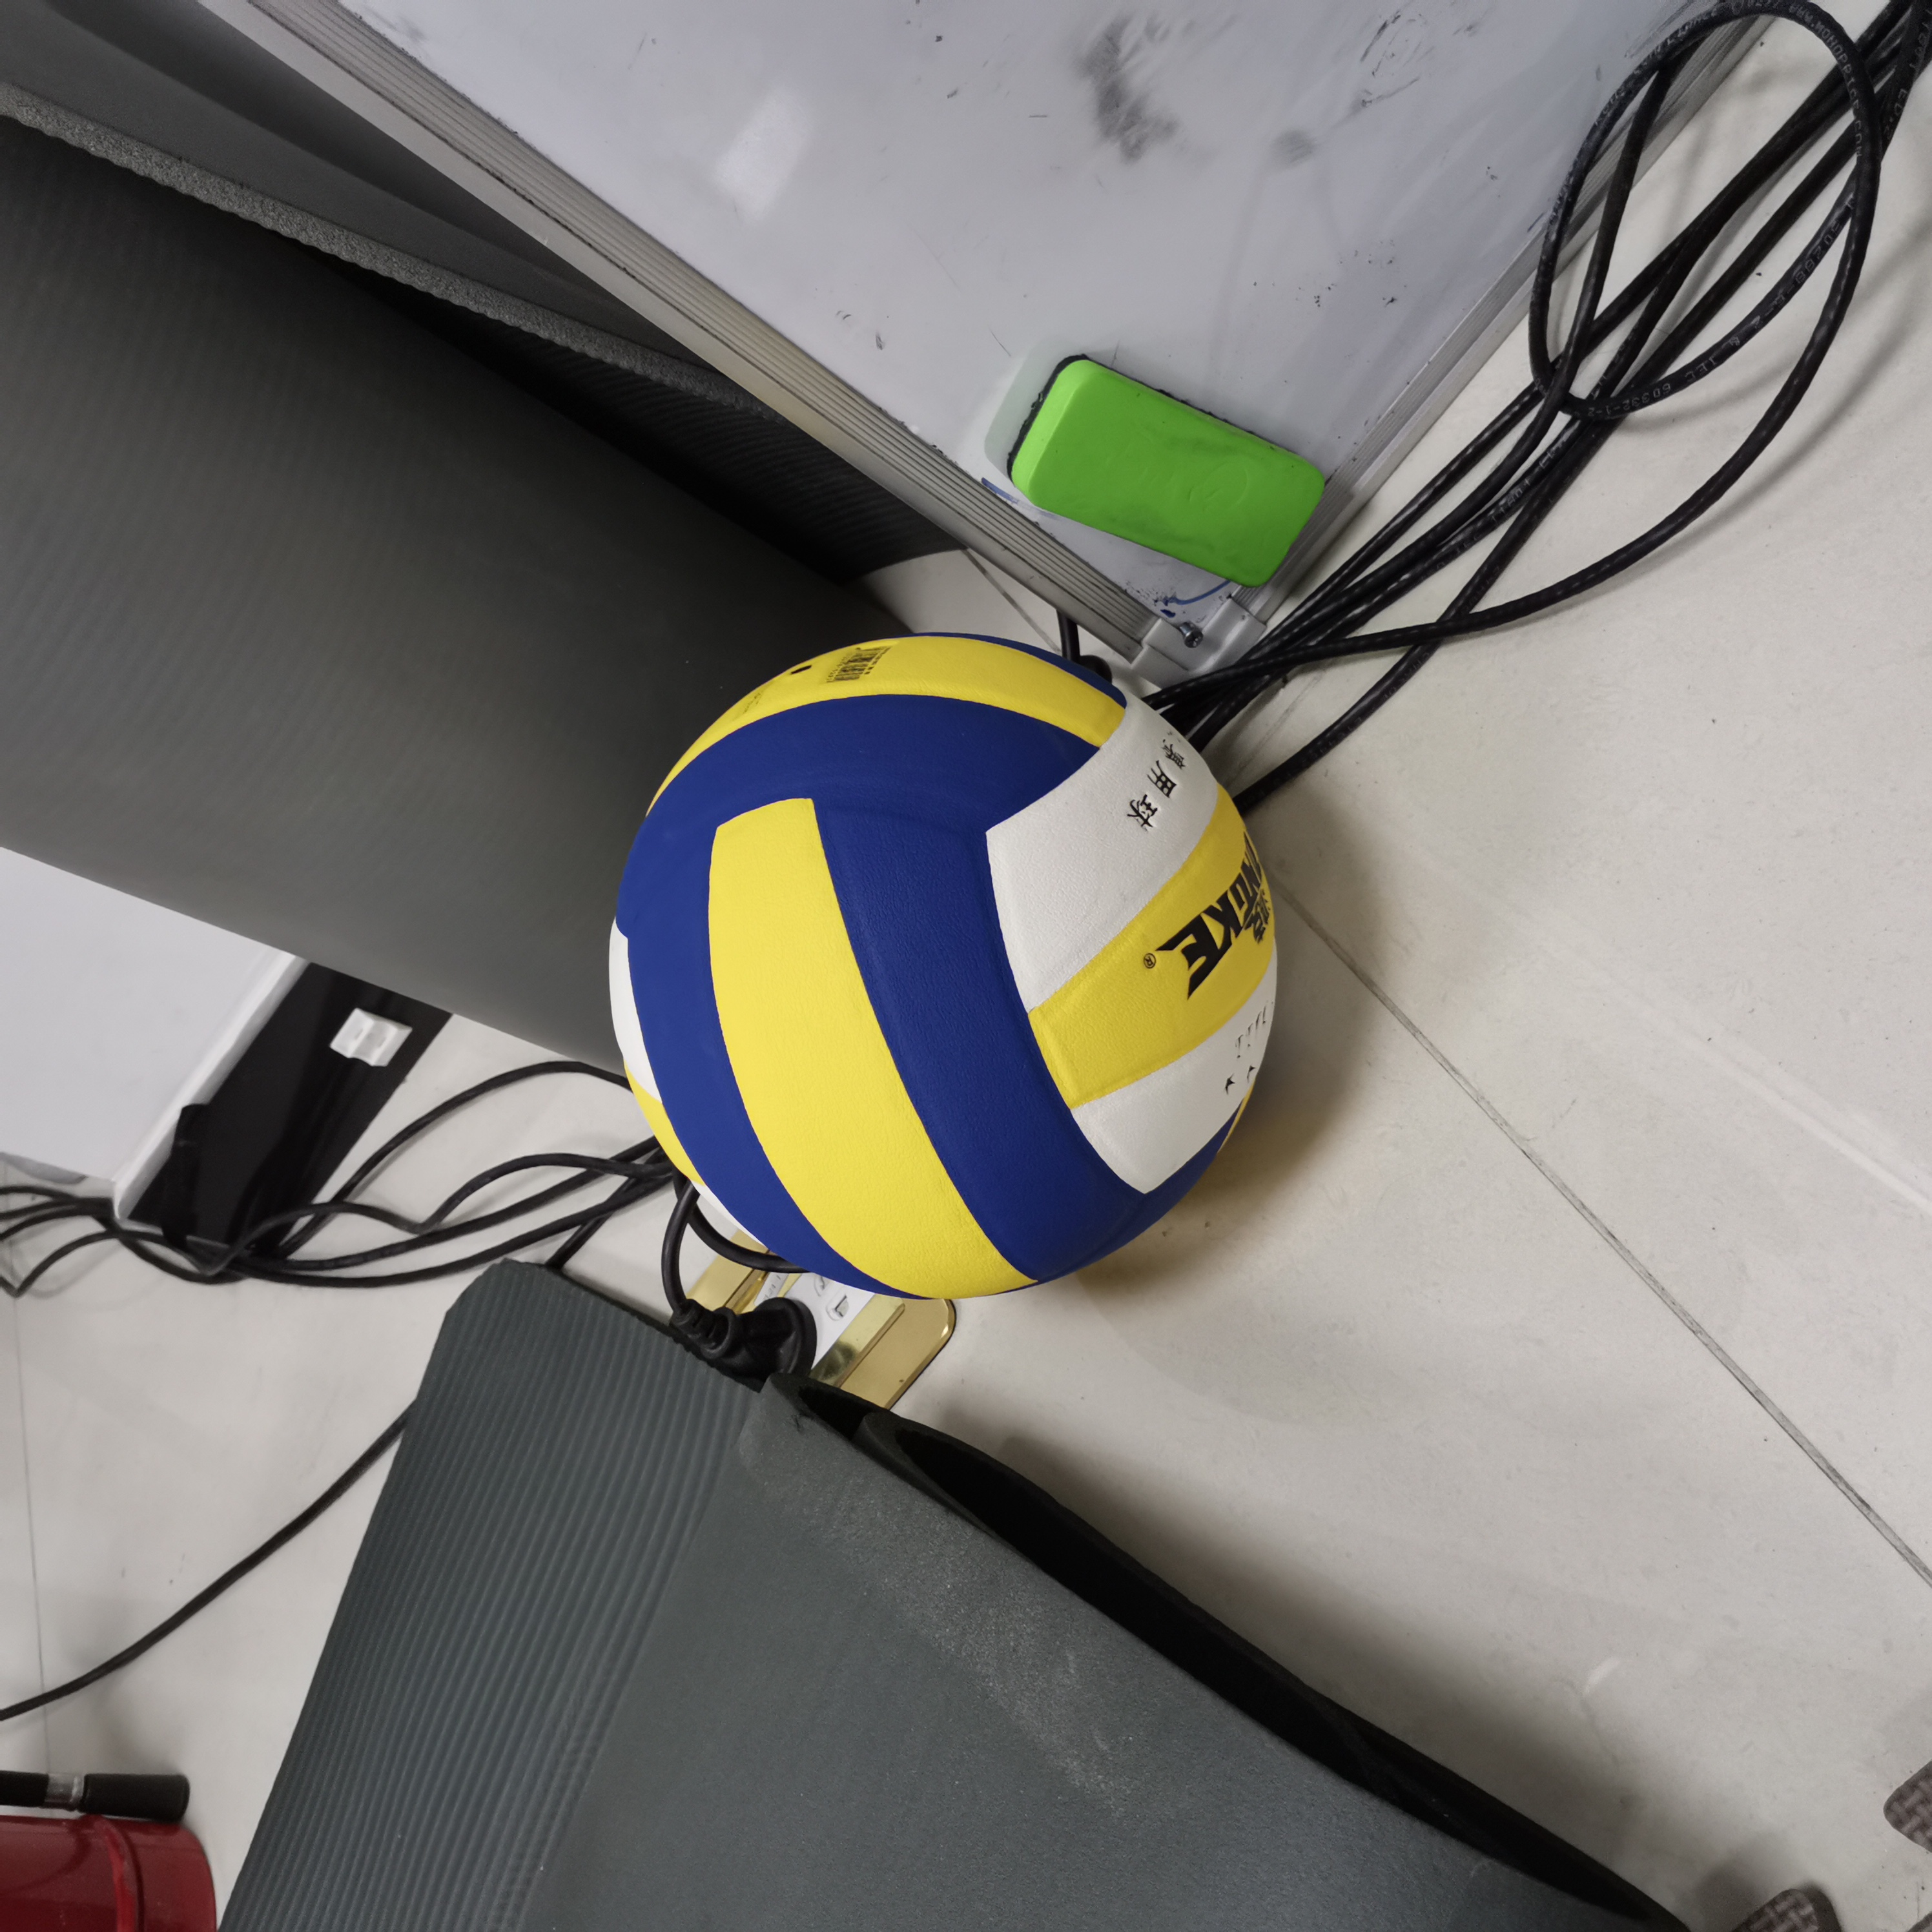volleyball: (607, 633, 1277, 1300)
